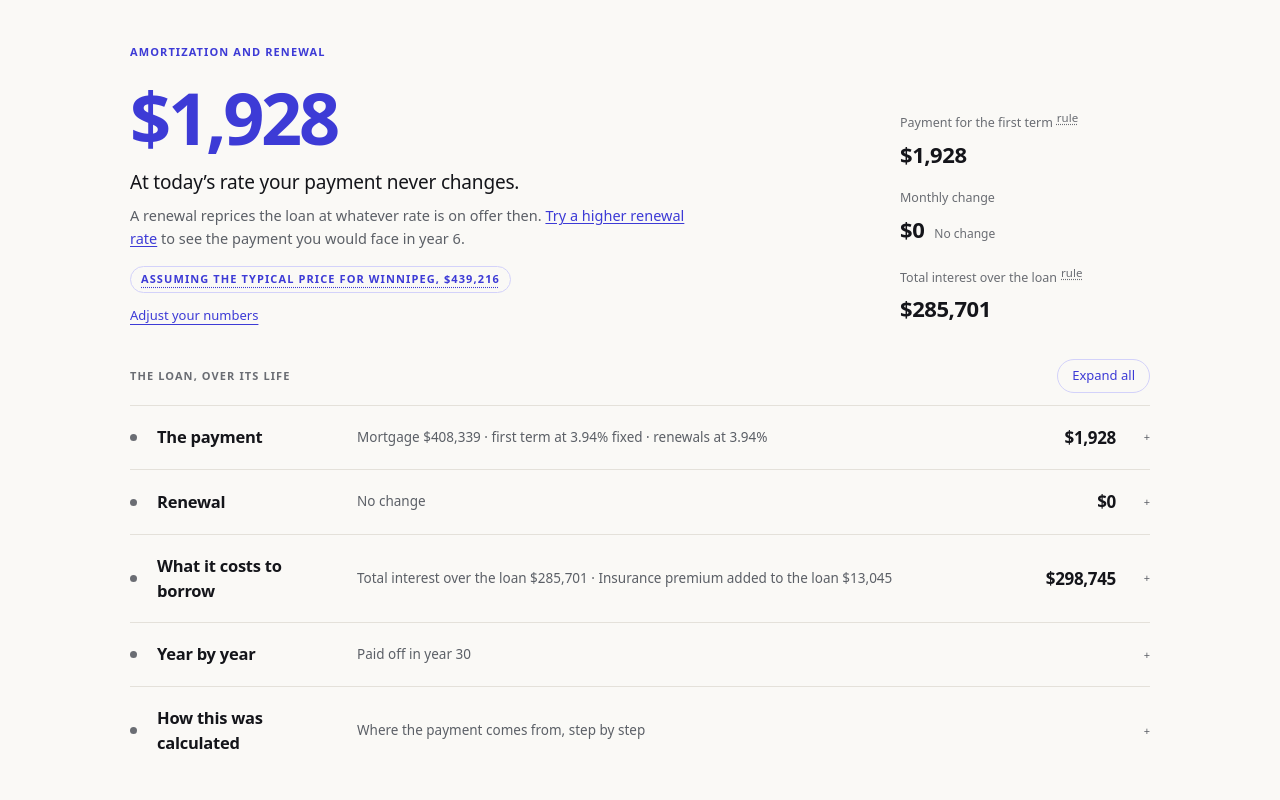
Scenario: Amortization — renewal is the subject › turns a renewal rate into a payment shock
The width and height of the screenshot is (1280, 800).
Click the button "Renewal No change $0 +" at (191, 501), box [130,470,1150,534]
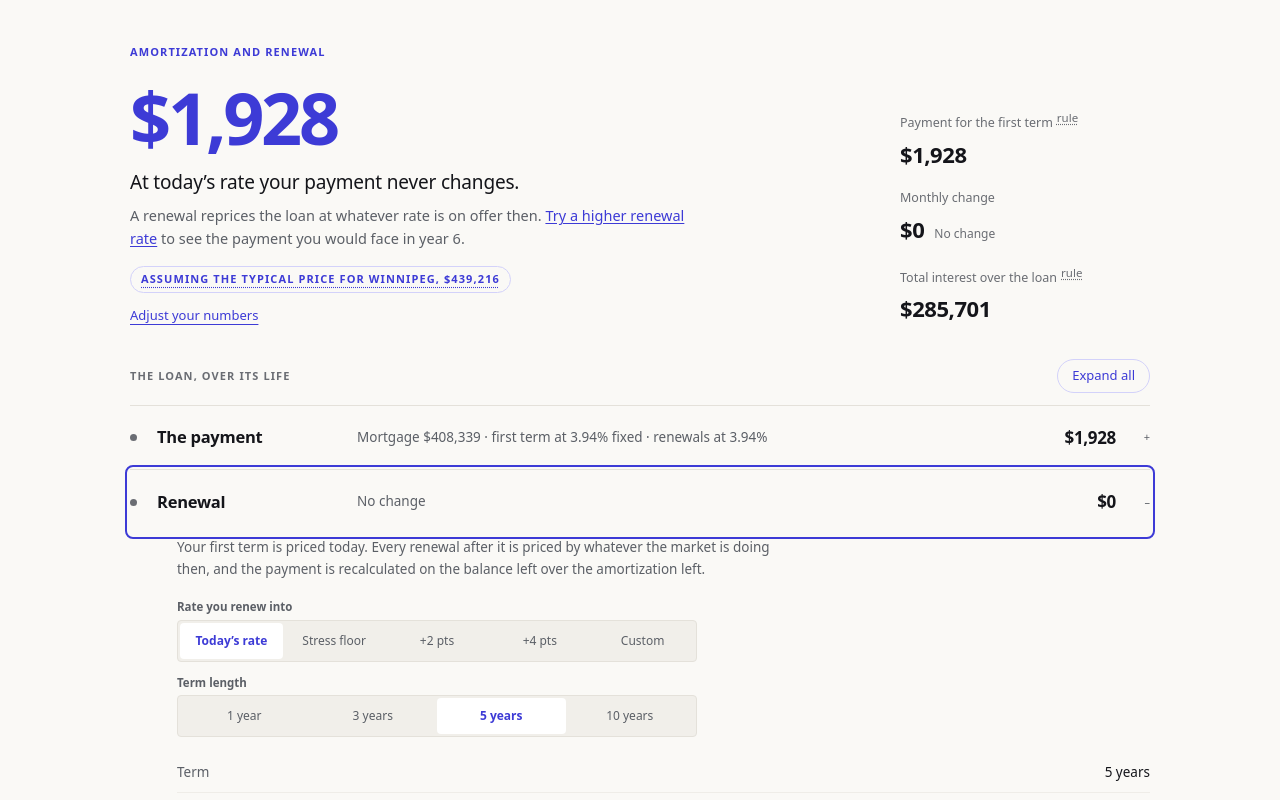
Click the radio button labelled "+4 pts" at (540, 641), box [488,623,591,659]
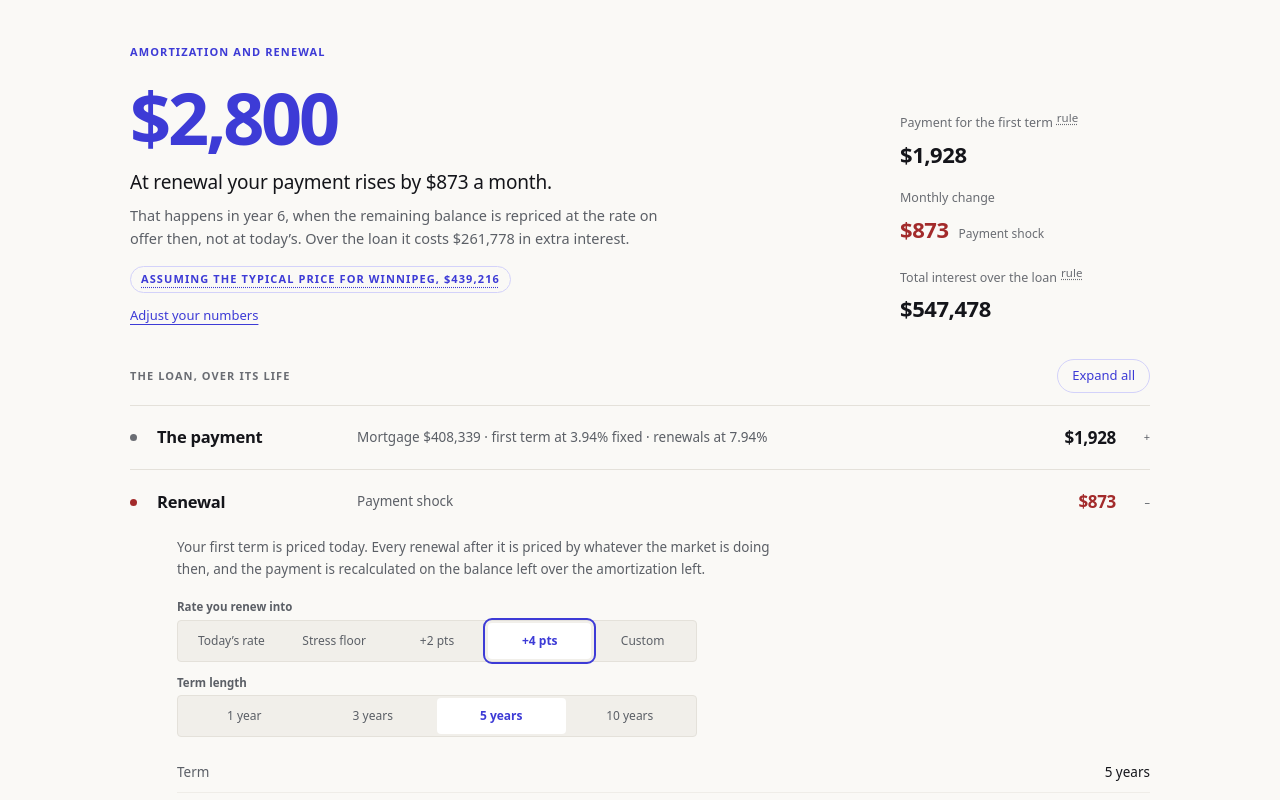
Result: the text "At renewal your payment rises by $873 a month." is shown at [130,168,552,194]
